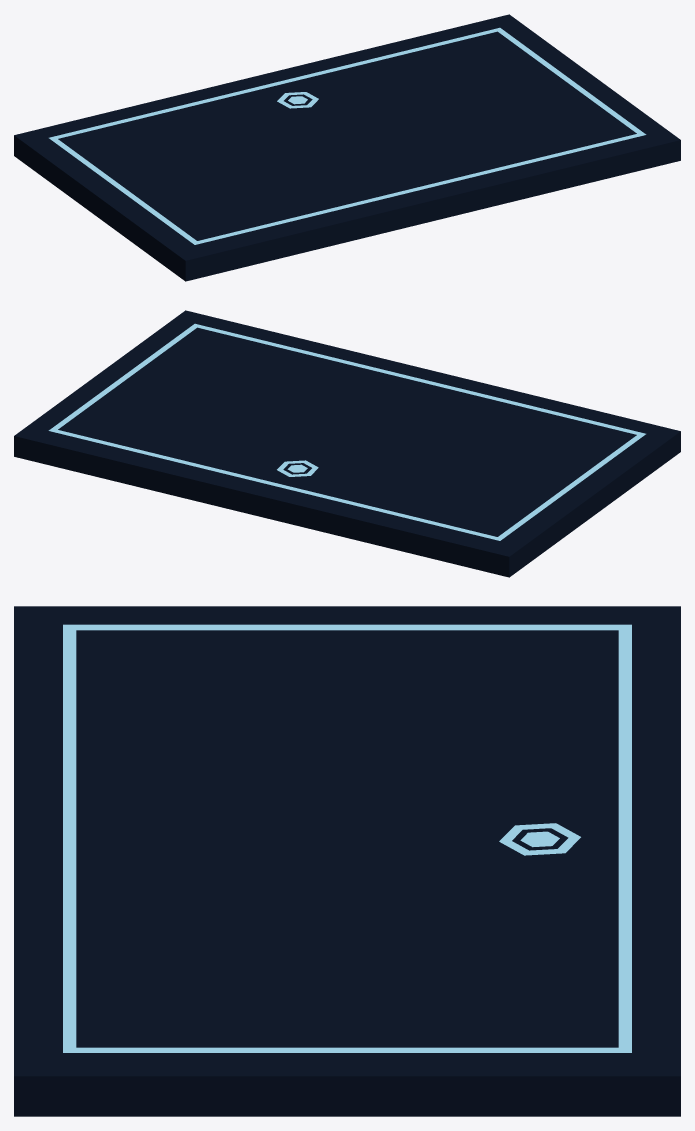
The model's file is W_O_Playground_Finish_B_L2.fbx.
3 views of the same model, one above another, from view 1: azimuth 30°, elevation 25°; view 2: azimuth 150°, elevation 25°; view 3: azimuth 270°, elevation 25° (orthographic). The views are drawn at different scales.
Parts seen in each view (by area): view 1: W_O_Playground_Finish_B_L2; view 2: W_O_Playground_Finish_B_L2; view 3: W_O_Playground_Finish_B_L2.
Part boxes in pixels (bbox=[...]): W_O_Playground_Finish_B_L2: bbox=[14, 14, 680, 281]; W_O_Playground_Finish_B_L2: bbox=[14, 310, 680, 577]; W_O_Playground_Finish_B_L2: bbox=[14, 606, 680, 1116].
Size of the model in its own units: 5 by 0.2121 by 3.
